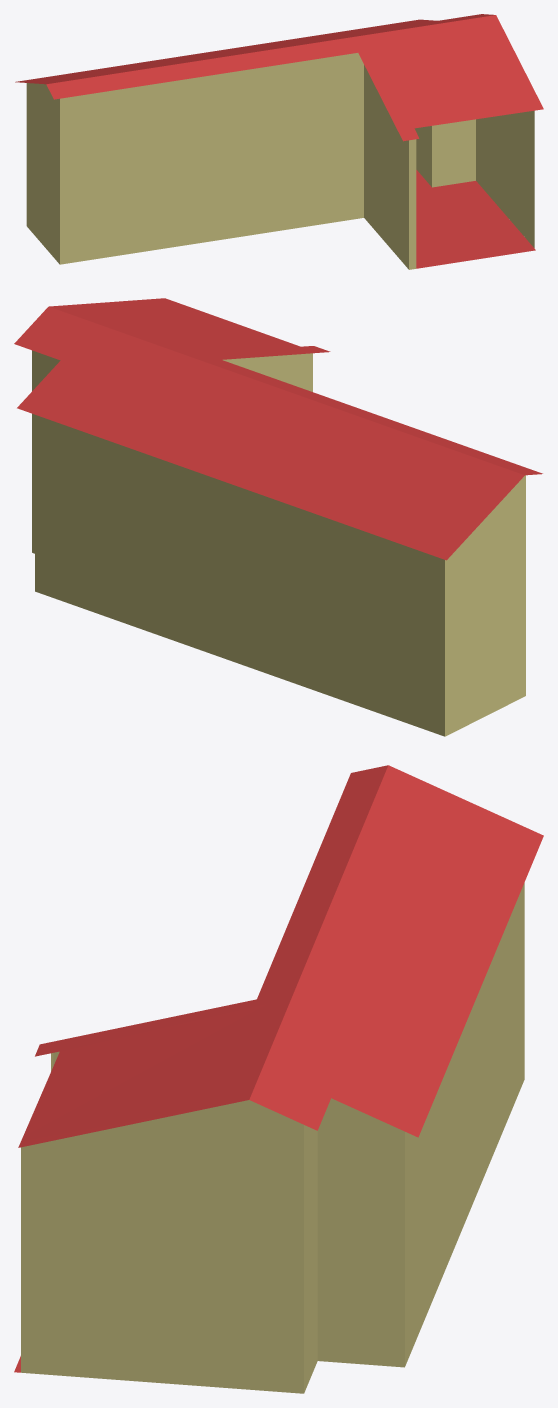
The picture shows the model from 3 angles, top to bottom: view 1: azimuth 30°, elevation 25°; view 2: azimuth 150°, elevation 25°; view 3: azimuth 270°, elevation 25°; orthographic projection. The views are drawn at different scales.
Visible parts, largest first — view 1: group_5, group_3, group_6, group_4; view 2: group_5, group_3; view 3: group_5, group_3, group_4.
Part boxes in pixels (box(x1,y1,x2,y2)): group_5: box(26, 53, 534, 269); group_3: box(15, 14, 543, 141); group_6: box(416, 170, 535, 268); group_4: box(51, 15, 542, 109); group_5: box(32, 350, 525, 736); group_3: box(14, 298, 542, 560); group_5: box(21, 883, 524, 1393); group_3: box(18, 765, 543, 1147); group_4: box(20, 766, 384, 1147).
Bounding box in the file's own units: 36.52 × 23.87 × 14.76.
